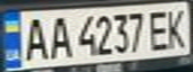2: (93, 11, 115, 56)
3: (112, 10, 133, 55)
4: (72, 11, 96, 57)
7: (127, 9, 148, 53)
A: (18, 14, 51, 62), (45, 12, 72, 60)
E: (145, 7, 172, 52)
K: (163, 4, 193, 50)
